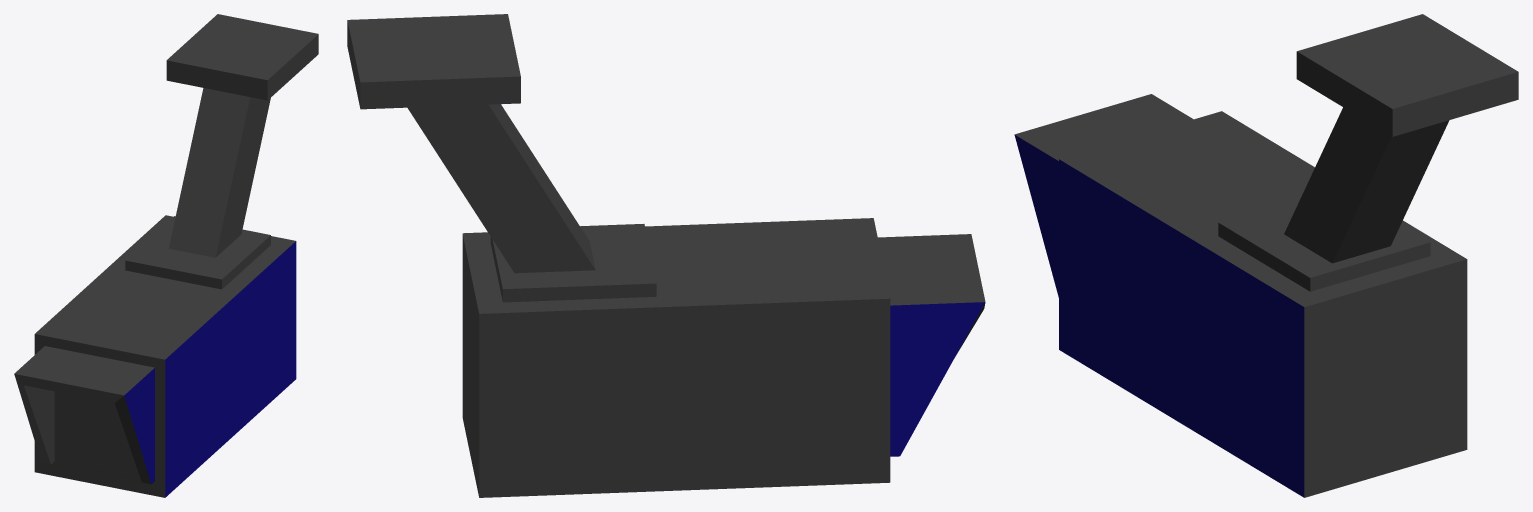
File: Camara.fbx
3 views of the same model, side by side, from view 1: azimuth 30°, elevation 25°; view 2: azimuth 150°, elevation 25°; view 3: azimuth 270°, elevation 25° (orthographic). The views are drawn at different scales.
Visible parts, largest first — view 1: Box134; view 2: Box134; view 3: Box134.
Boxes of the visible parts, left/top/right/bottom form: Box134: left=14, top=14, right=318, bottom=497; Box134: left=347, top=14, right=985, bottom=497; Box134: left=1014, top=14, right=1518, bottom=497.
Size of the model in its own units: 77.88 by 58.58 by 62.9.
